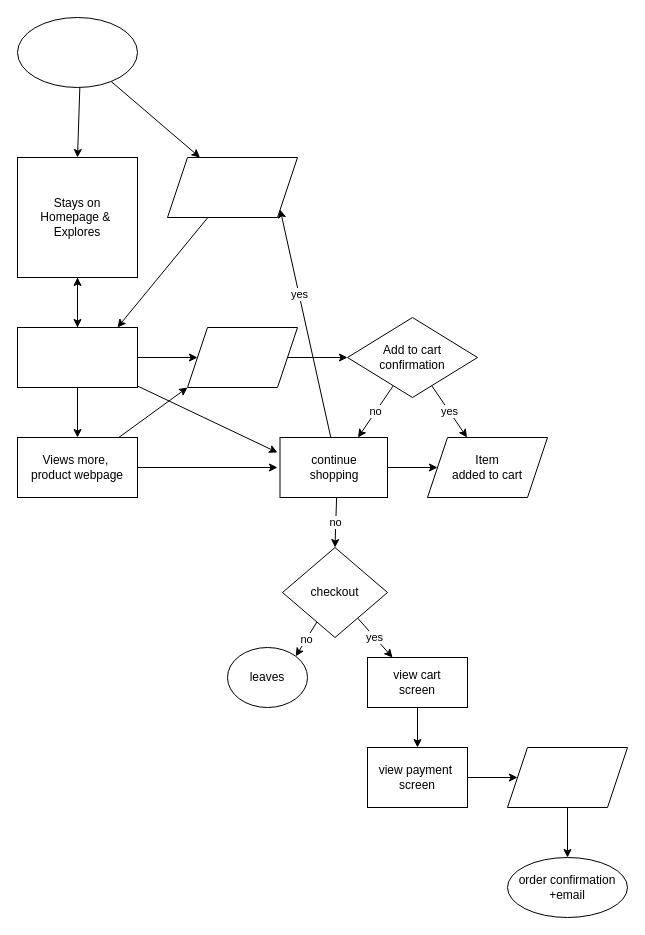
Image size: 645x935. Some labels were removed from this diagram. The box of each missing label's shape, as (x1, y1, x2, y2) in pixels:
enter payout info: (506, 746, 628, 808)
Presses add to cart: (186, 326, 298, 388)
searches for something: (166, 156, 298, 218)
Sees a specific product: (16, 326, 138, 388)
User enters website: (16, 16, 138, 88)
